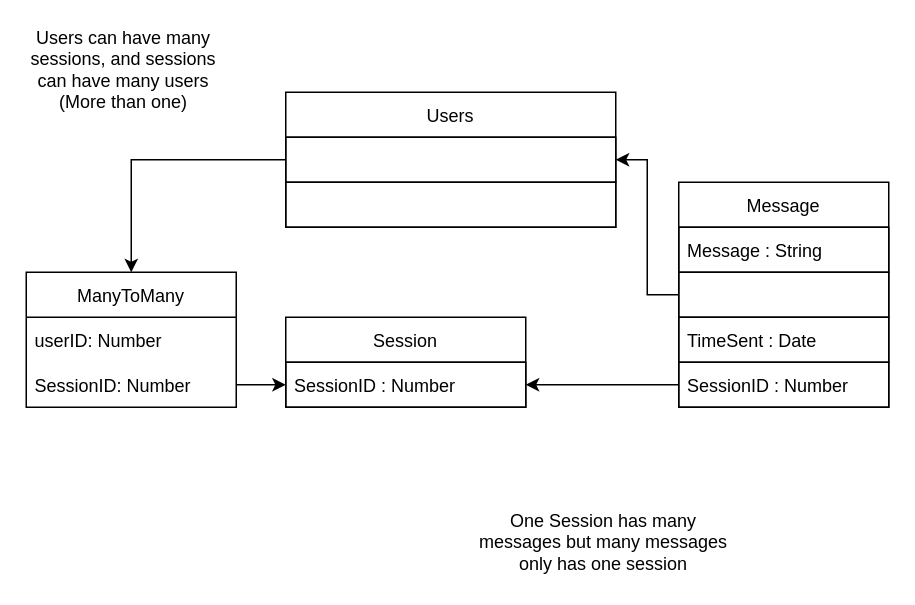
This 915x605 diagram has some shape labels left out. The shapes that lost their labels are listed below. From the top down, each one's centre as x and y in pixels, then its label:
At [450,159]: "ID : Number".
At [450,204]: "Username : String".
At [783,294]: "SentByID : Number".
